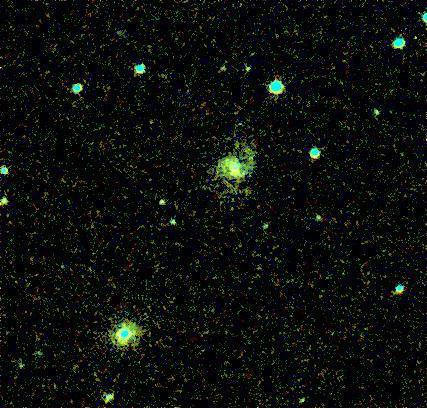star: (400, 23, 427, 53)
